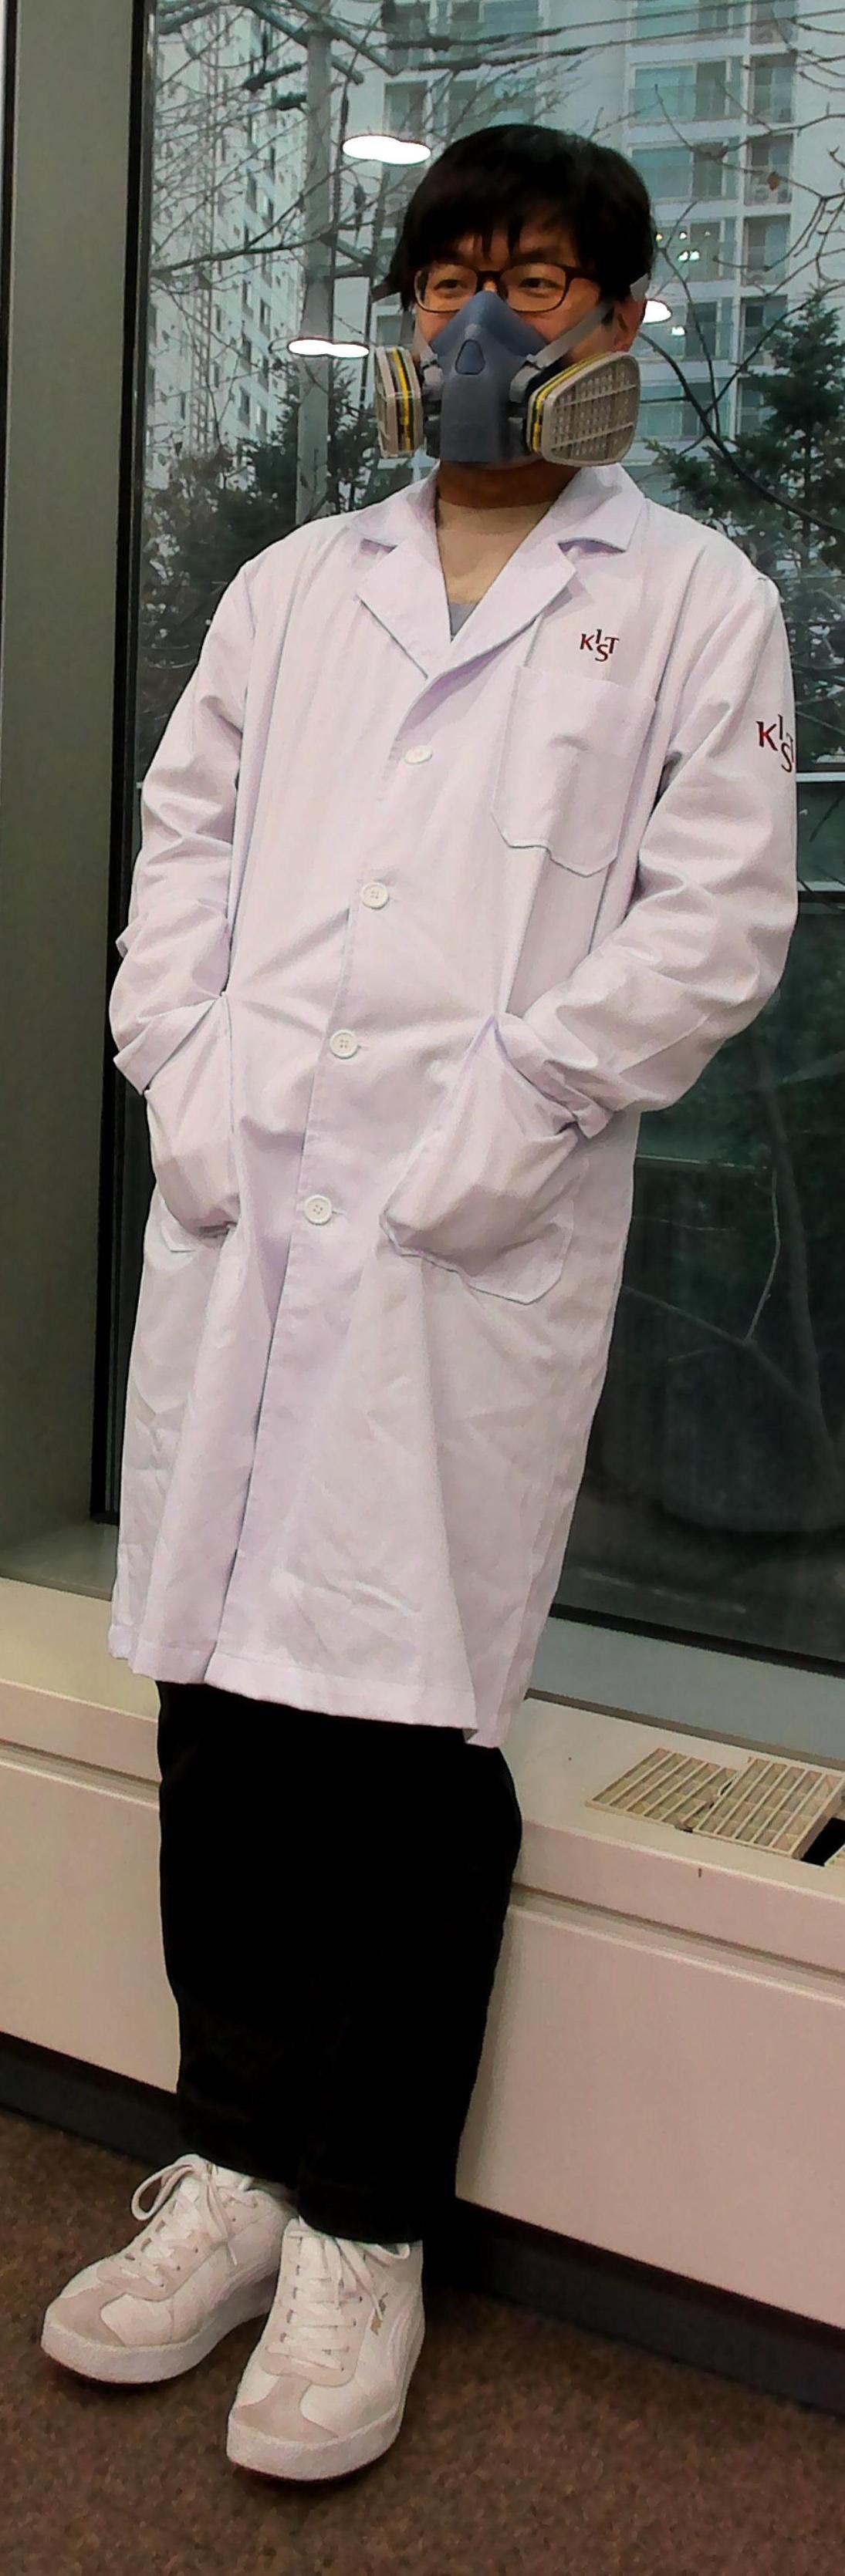lab_coat: (71, 542, 817, 1690)
